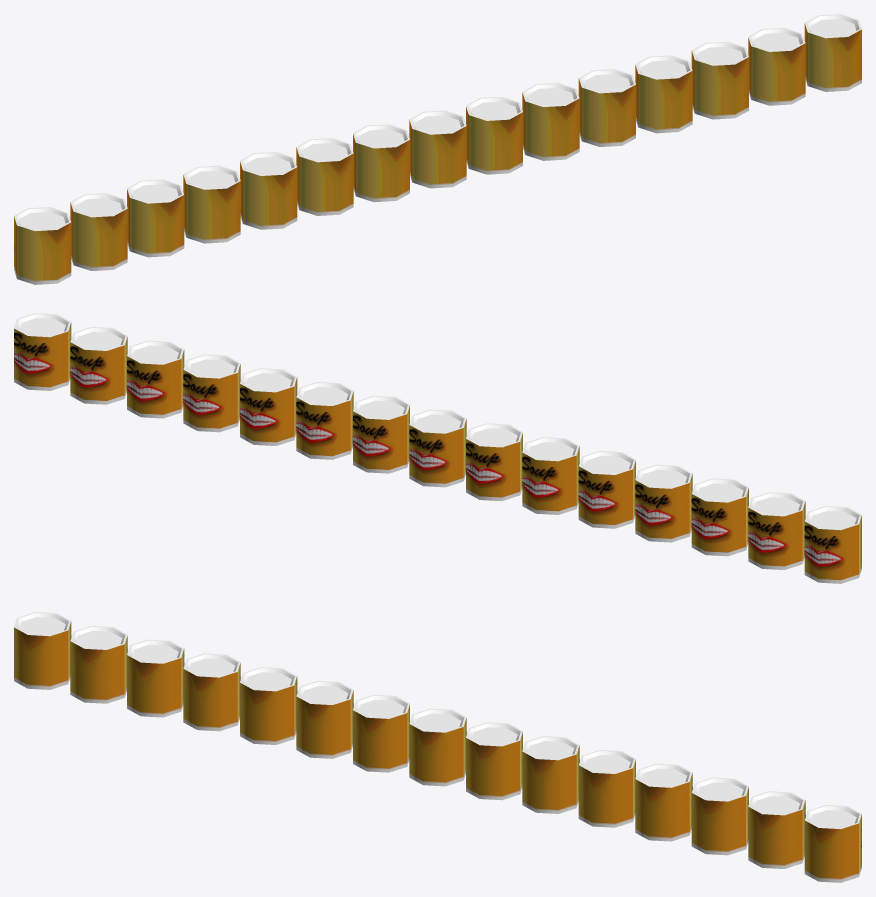
Rendered from SoupCans2.fbx.
3 renders of one model, top to bottom at view 1: azimuth 30°, elevation 25°; view 2: azimuth 150°, elevation 25°; view 3: azimuth 330°, elevation 25°, orthographic.
Visible parts, largest first — view 1: SoupCans2; view 2: SoupCans2; view 3: SoupCans2.
Boxes of the visible parts, <box> form: SoupCans2: <box>14,14,861,284</box>; SoupCans2: <box>14,313,861,583</box>; SoupCans2: <box>14,612,861,882</box>.
Bounding box in the file's own units: 2.42 × 0.1476 × 0.1476.
